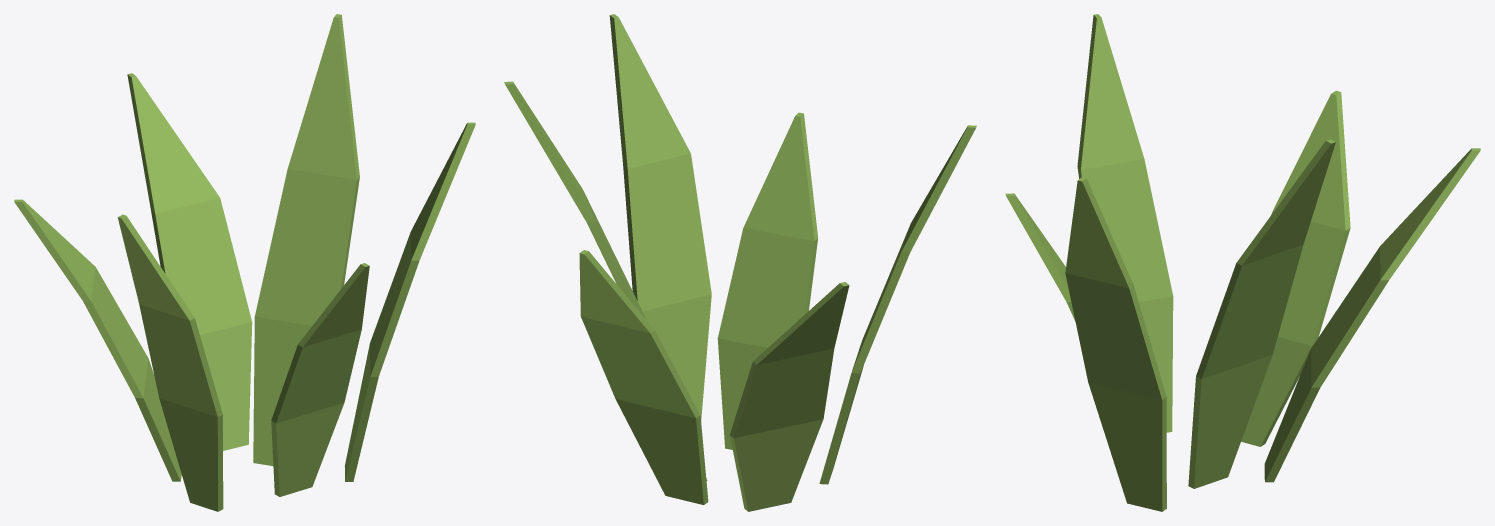
The model's file is plant_001c_sea_grass.glb.
3 views of the same model, side by side, from view 1: azimuth 30°, elevation 25°; view 2: azimuth 150°, elevation 25°; view 3: azimuth 270°, elevation 25° (orthographic). The views are drawn at different scales.
Parts seen in each view (by area): view 1: plant_001c_sea_grass__mesh; view 2: plant_001c_sea_grass__mesh; view 3: plant_001c_sea_grass__mesh.
Part boxes in pixels (x1,y1,x2,y2): plant_001c_sea_grass__mesh: (14, 14, 475, 511); plant_001c_sea_grass__mesh: (504, 14, 976, 511); plant_001c_sea_grass__mesh: (1005, 14, 1480, 511).
Bounding box in the file's own units: 0.4331 × 0.4449 × 0.4747.
